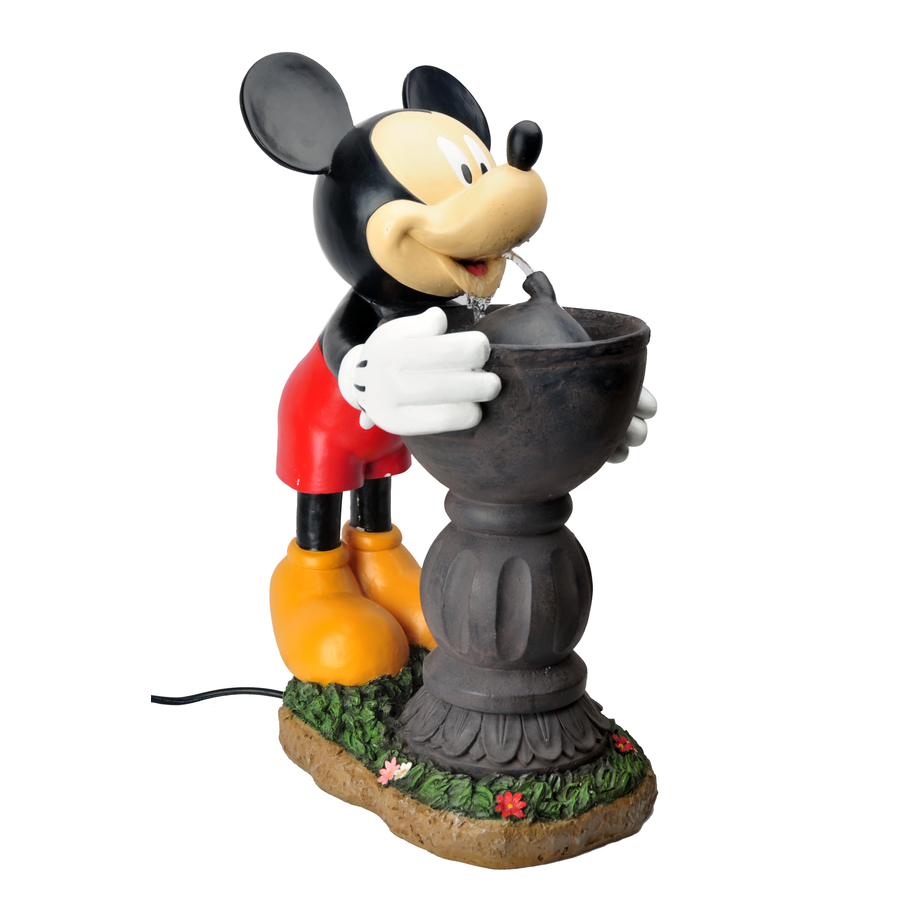Mickey: (234, 50, 551, 310)
